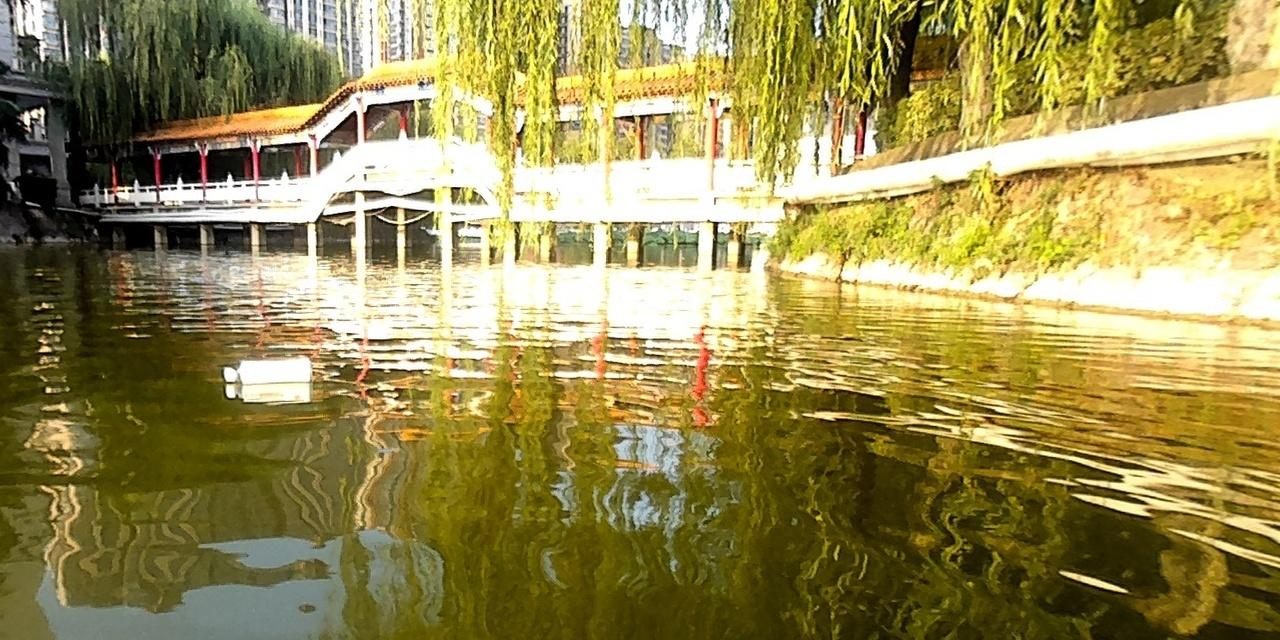bottle: (218, 350, 313, 384)
